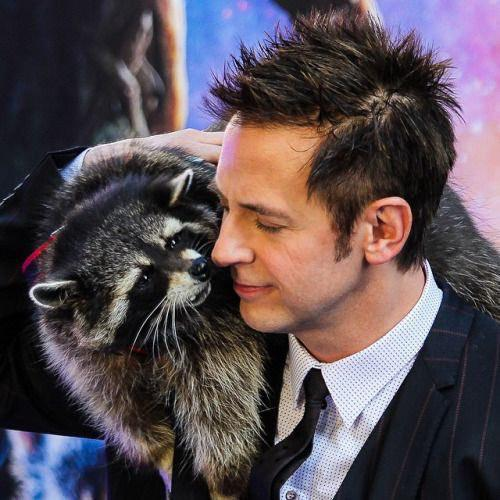raccoon: (16, 121, 278, 498)
